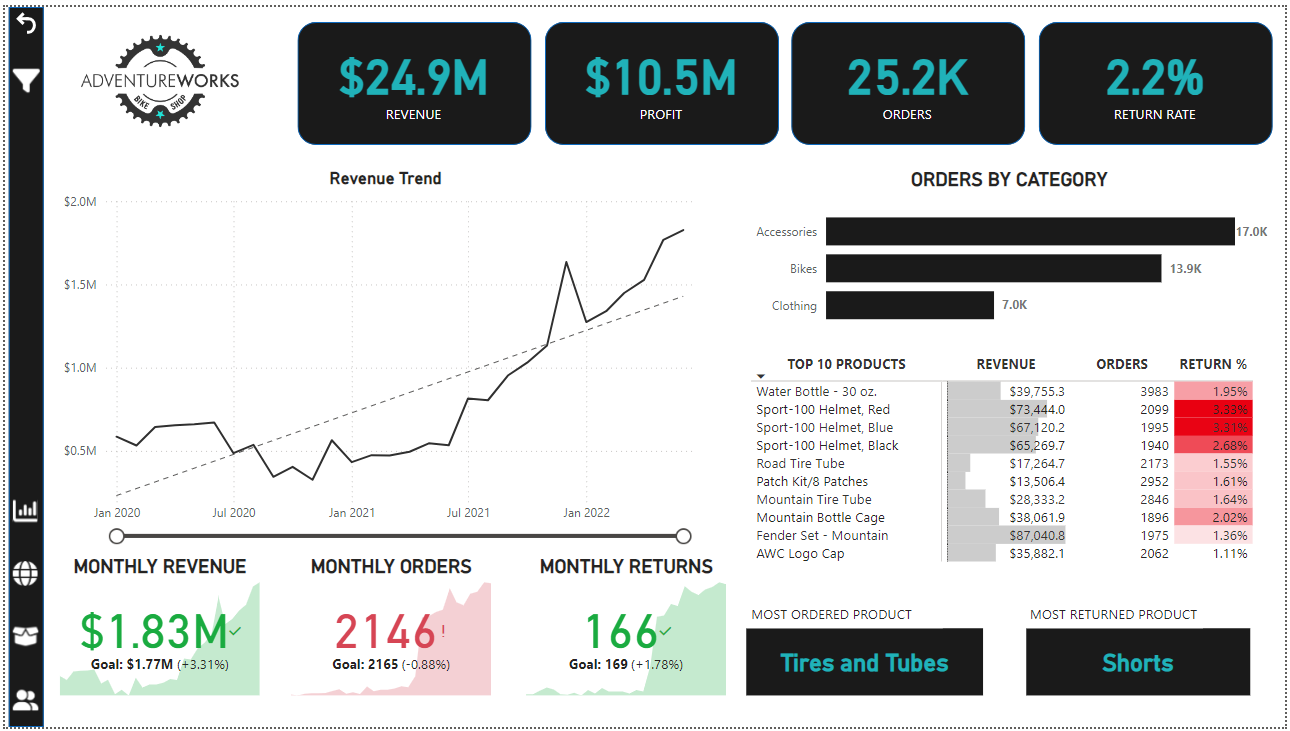

Layout of this report page (visuals, bound fields, positions):
{"tool":"powerbi","page":{"name":"Exec Dashboard","canvas":[1280,720],"ordinal":0},"visuals":[{"type":"image","title":"Logo","box":[53.8,0,203.8,147.5],"z":0},{"type":"card","fields":{"Values":["Measure Table.Total Revenue"]},"box":[301.2,15,215,116.2],"z":0,"group":"g2"},{"type":"group","id":"g1","title":"KPI Background","box":[292.2,15.6,975.1,123],"z":0,"group":"g3"},{"type":"shape","box":[292.2,15.6,234,123],"z":0,"group":"g1"},{"type":"shape","box":[3.8,0,35,720],"z":1000},{"type":"group","id":"g2","title":"KPI Values","box":[301.2,15,956.2,116.2],"z":1000,"group":"g3"},{"type":"card","fields":{"Values":["Measure Table.Return Rate"]},"box":[1042.4,15,215,116.2],"z":1000,"group":"g2"},{"type":"shape","box":[539.2,15.6,234,123],"z":1000,"group":"g1"},{"type":"group","id":"g3","title":"KPIs","box":[292.2,15,975.1,123.6],"z":2000},{"type":"card","fields":{"Values":["Measure Table.Total Profit"]},"box":[548.3,15,215,116.2],"z":2000,"group":"g2"},{"type":"shape","box":[786.3,15.6,234,123],"z":2000,"group":"g1"},{"type":"card","fields":{"Values":["Measure Table.Total Orders"]},"box":[795.4,15,215,116.2],"z":3000,"group":"g2"},{"type":"shape","box":[1033.3,15.6,234,123],"z":3000,"group":"g1"},{"type":"lineChart","title":"Revenue Trend","fields":{"Y":["Measure Table.Total Revenue"],"Category":["Calendar Lookup.Year","Calendar Lookup.Start of Quarter","Calendar Lookup.Start of Month"]},"box":[53.8,161.2,653.8,378.8],"z":3000},{"type":"kpi","title":"MONTHLY REVENUE","fields":{"Indicator":["Measure Table.Total Revenue"],"TrendLine":["Calendar Lookup.Start of Month"],"Goal":["Measure Table.Previous Month Revenue"]},"box":[49.5,549,210,145],"z":4000},{"type":"kpi","title":"MONTHLY ORDERS","fields":{"TrendLine":["Calendar Lookup.Start of Month"],"Indicator":["Measure Table.Total Orders"],"Goal":["Measure Table.Previous Month Orders"]},"box":[281.2,548.8,210,145],"z":5000},{"type":"kpi","title":"MONTHLY RETURNS","fields":{"TrendLine":["Calendar Lookup.Start of Month"],"Indicator":["Measure Table.Total Returns"],"Goal":["Measure Table.Previous Month Returns"]},"box":[516.2,548.8,210,145],"z":6000},{"type":"clusteredBarChart","title":"ORDERS BY CATEGORY","fields":{"Category":["Product Categories Lookup.CategoryName"],"Y":["Measure Table.Total Orders"]},"box":[741.2,161.2,526.2,172.5],"z":7000},{"type":"pivotTable","fields":{"Rows":["Product Lookup.ProductName"],"Values":["Measure Table.Total Revenue","Measure Table.Total Orders","Measure Table.Return Rate"]},"box":[741.2,342.5,516.2,228.8],"z":8000},{"type":"card","fields":{"Values":["Min(Product Subcategories Lookup.SubcategoryName)"]},"box":[741,621,237,67],"z":9000},{"type":"textbox","box":[741.2,592.5,196.2,28.8],"z":10000},{"type":"card","fields":{"Values":["Min(Product Subcategories Lookup.SubcategoryName)"]},"box":[1021,621,224,67],"z":11000},{"type":"textbox","box":[1020,592.5,177.5,28.8],"z":12000},{"type":"actionButton","box":[6,0,30.2,31.5],"z":13000},{"type":"actionButton","box":[3.8,487.9,35,32.9],"z":14000},{"type":"actionButton","box":[3.8,550.4,35,32.9],"z":15000},{"type":"actionButton","box":[3.8,612.9,35,33.8],"z":16000},{"type":"actionButton","box":[3.8,676.2,35,33.8],"z":17000},{"type":"actionButton","box":[3.8,53.8,35,40],"z":18000}]}

Visuals, with their boxes on the page's 1280x720 design canvas (x1, y1, x2, y2). These are canvas units, not pixel positions in the 1290x731 screenshot, which may show the page scaled, cropped or inside an application window:
"Logo" image: [left=54, top=0, right=258, bottom=148]
card - Measure Table.Total Revenue: [left=301, top=15, right=516, bottom=131]
"KPI Background" group: [left=292, top=16, right=1267, bottom=139]
shape: [left=292, top=16, right=526, bottom=139]
shape: [left=4, top=0, right=39, bottom=720]
"KPI Values" group: [left=301, top=15, right=1257, bottom=131]
card - Measure Table.Return Rate: [left=1042, top=15, right=1257, bottom=131]
shape: [left=539, top=16, right=773, bottom=139]
"KPIs" group: [left=292, top=15, right=1267, bottom=139]
card - Measure Table.Total Profit: [left=548, top=15, right=763, bottom=131]
shape: [left=786, top=16, right=1020, bottom=139]
card - Measure Table.Total Orders: [left=795, top=15, right=1010, bottom=131]
shape: [left=1033, top=16, right=1267, bottom=139]
"Revenue Trend" lineChart: [left=54, top=161, right=708, bottom=540]
"MONTHLY REVENUE" kpi: [left=50, top=549, right=260, bottom=694]
"MONTHLY ORDERS" kpi: [left=281, top=549, right=491, bottom=694]
"MONTHLY RETURNS" kpi: [left=516, top=549, right=726, bottom=694]
"ORDERS BY CATEGORY" clusteredBarChart: [left=741, top=161, right=1267, bottom=334]
pivotTable - Product Lookup.ProductName x Measure Table.Total Revenue: [left=741, top=342, right=1257, bottom=571]
card - Min(Product Subcategories Lookup.SubcategoryName): [left=741, top=621, right=978, bottom=688]
textbox: [left=741, top=592, right=937, bottom=621]
card - Min(Product Subcategories Lookup.SubcategoryName): [left=1021, top=621, right=1245, bottom=688]
textbox: [left=1020, top=592, right=1198, bottom=621]
actionButton: [left=6, top=0, right=36, bottom=32]
actionButton: [left=4, top=488, right=39, bottom=521]
actionButton: [left=4, top=550, right=39, bottom=583]
actionButton: [left=4, top=613, right=39, bottom=647]
actionButton: [left=4, top=676, right=39, bottom=710]
actionButton: [left=4, top=54, right=39, bottom=94]
